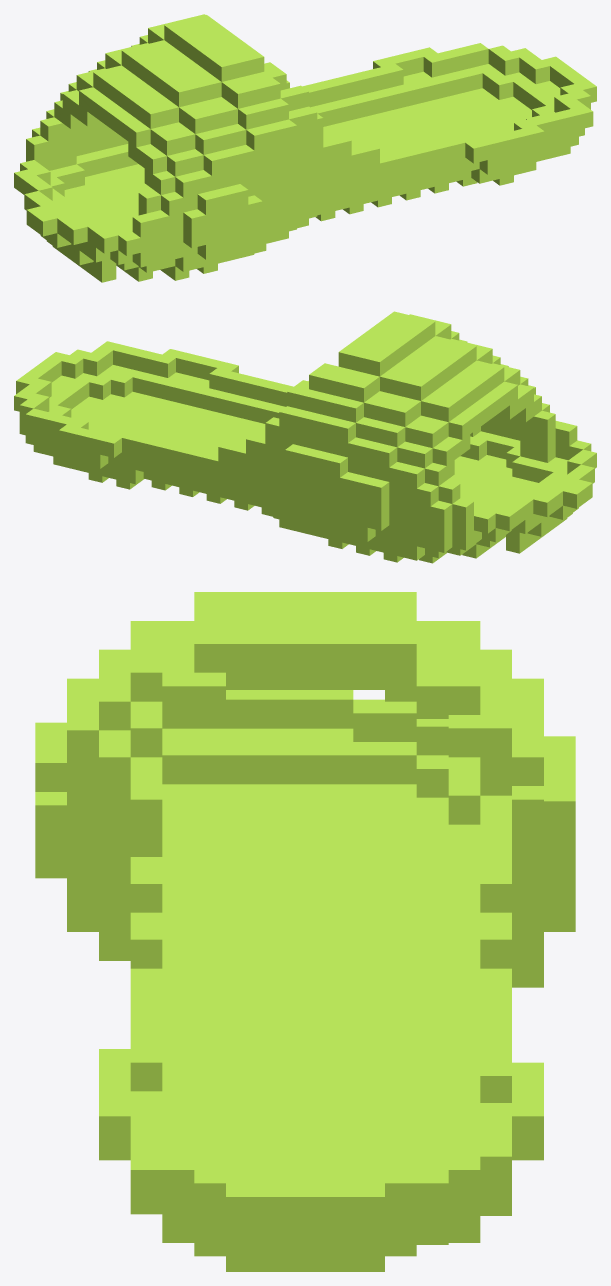
The model's file is Glow Green.fbx.
3 renders of one model, top to bottom at view 1: azimuth 30°, elevation 25°; view 2: azimuth 150°, elevation 25°; view 3: azimuth 270°, elevation 25°, orthographic. The views are drawn at different scales.
Visible parts, largest first — view 1: Untitled; view 2: Untitled; view 3: Untitled.
Part boxes in pixels (x1,y1,x2,y2): Untitled: (14, 14, 596, 282); Untitled: (14, 311, 596, 563); Untitled: (35, 592, 575, 1271).
Bounding box in the file's own units: 390 × 120 × 170.
